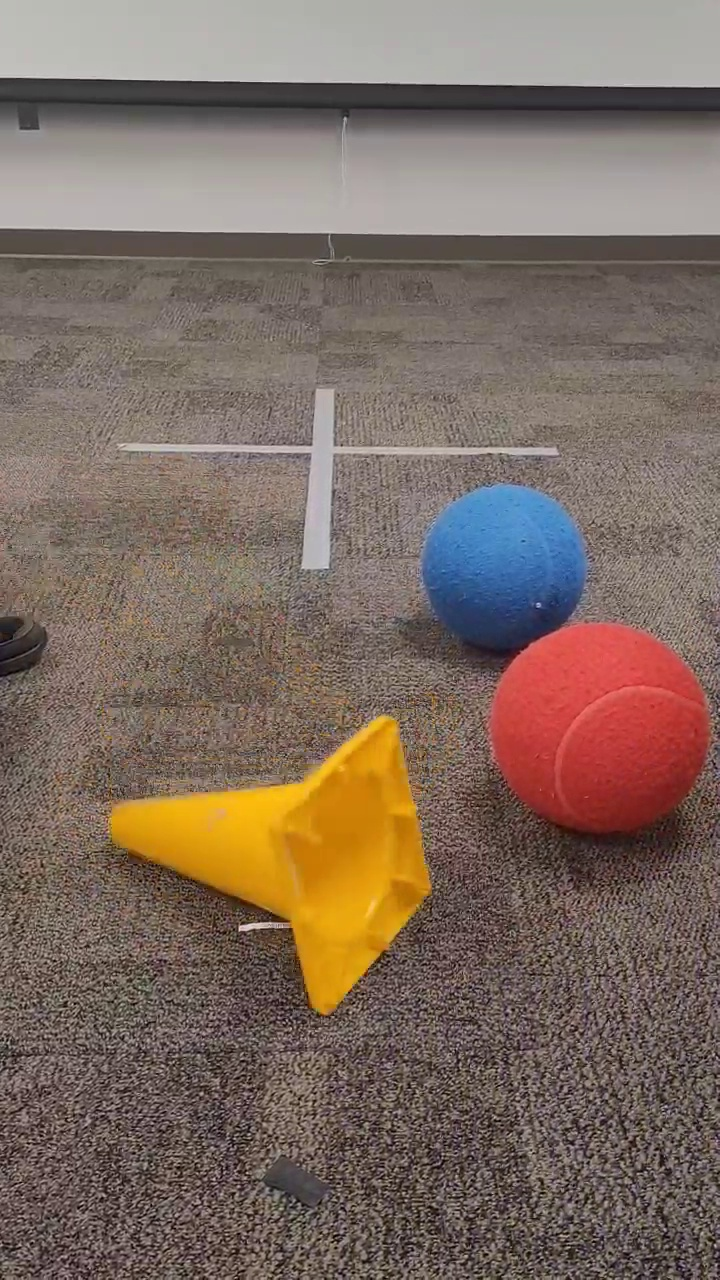ball: (487, 620, 717, 838), (420, 483, 589, 651)
cone: (105, 708, 434, 1017)
foot: (1, 611, 52, 680)
